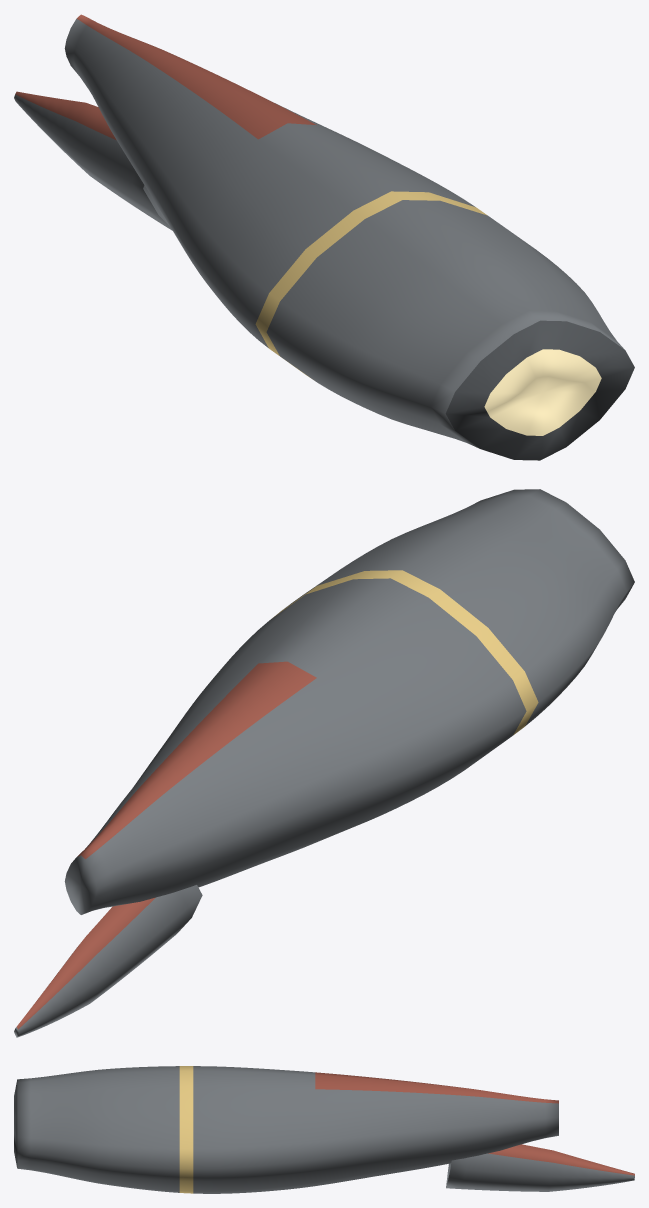
File: redtithe_ff.glb
3 renders of one model, top to bottom at view 1: azimuth 30°, elevation 25°; view 2: azimuth 150°, elevation 25°; view 3: azimuth 270°, elevation 25°, orthographic. The views are drawn at different scales.
Parts seen in each view (by area): view 1: hull_mesh, limb_0_mesh; view 2: hull_mesh, limb_0_mesh; view 3: hull_mesh, limb_0_mesh.
Part boxes in pixels (<box>): hull_mesh: <box>64,14,634,460</box>; limb_0_mesh: <box>14,91,172,230</box>; hull_mesh: <box>64,489,634,914</box>; limb_0_mesh: <box>14,885,202,1037</box>; hull_mesh: <box>14,1066,558,1193</box>; limb_0_mesh: <box>446,1144,634,1191</box>.
Bounding box in the file's own units: 18.47 × 13.3 × 61.9.
